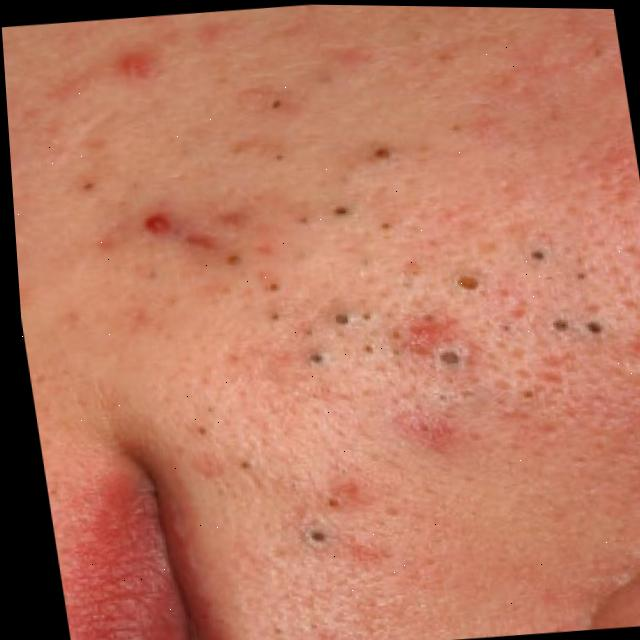Acne: (18, 8, 595, 524)
